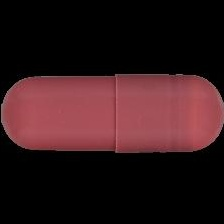60429-243: (0, 0, 224, 224)
